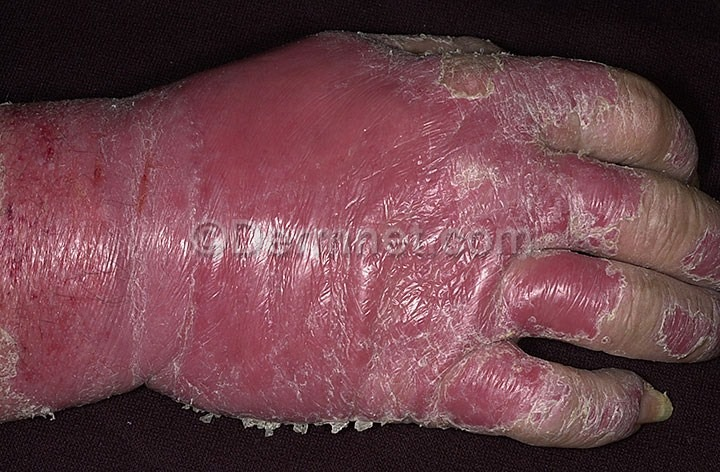Psoriasis: (13, 51, 578, 440), (586, 368, 681, 448), (654, 291, 720, 362), (657, 95, 709, 175), (677, 212, 720, 286)
